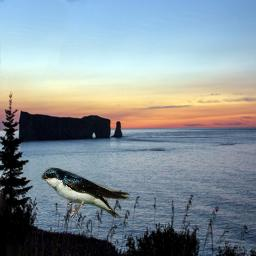Swallow: (41, 167, 133, 221)
